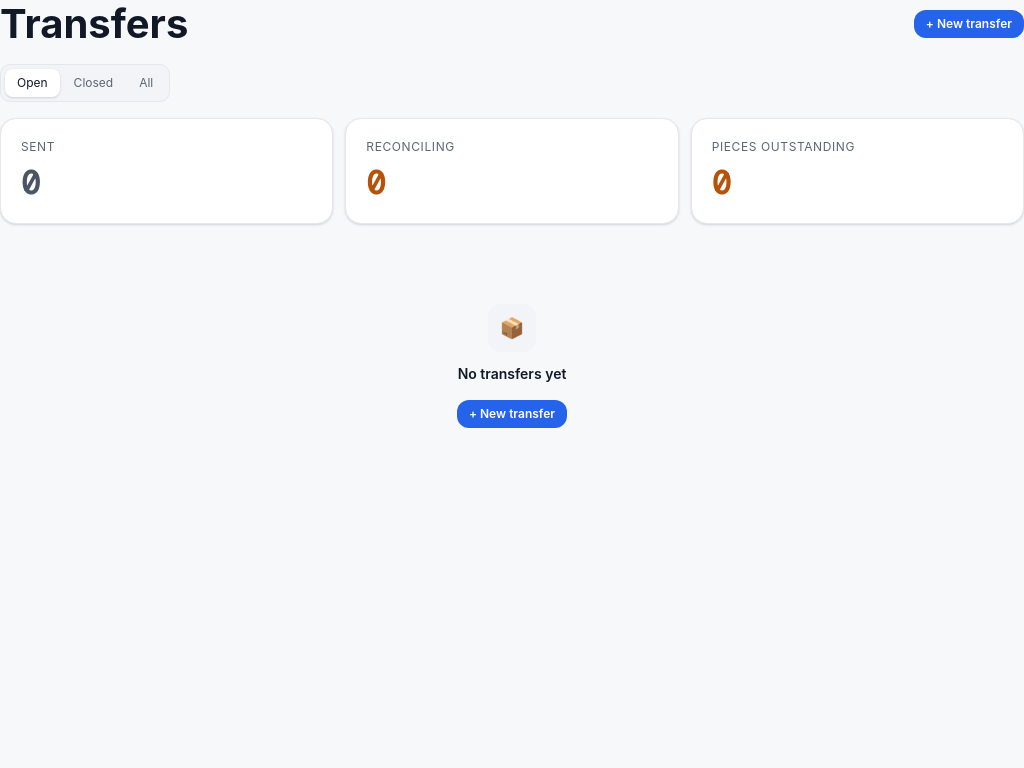
Test: Bring back form › lc15 — pieces at the source are a read-only list, no checkboxes
Click the 1st button "+ New transfer" at (969, 24), box 914,10 -> 1023,38
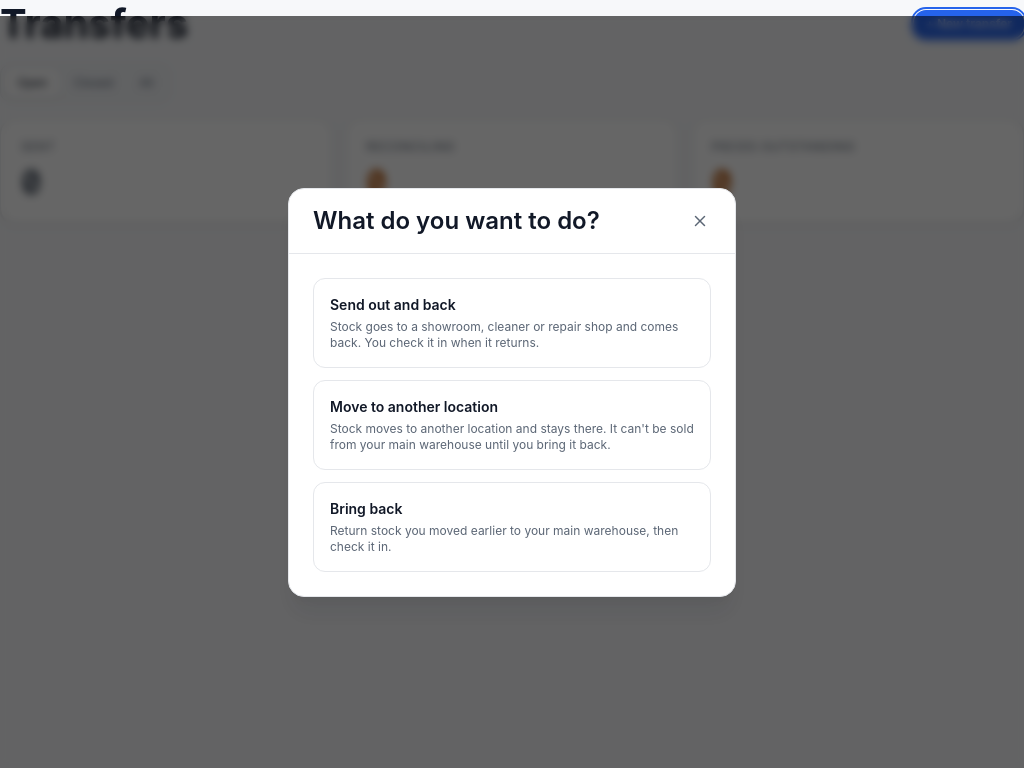
Click the button with test id "chooser-option-return" at (512, 526), box 313,482 -> 711,572
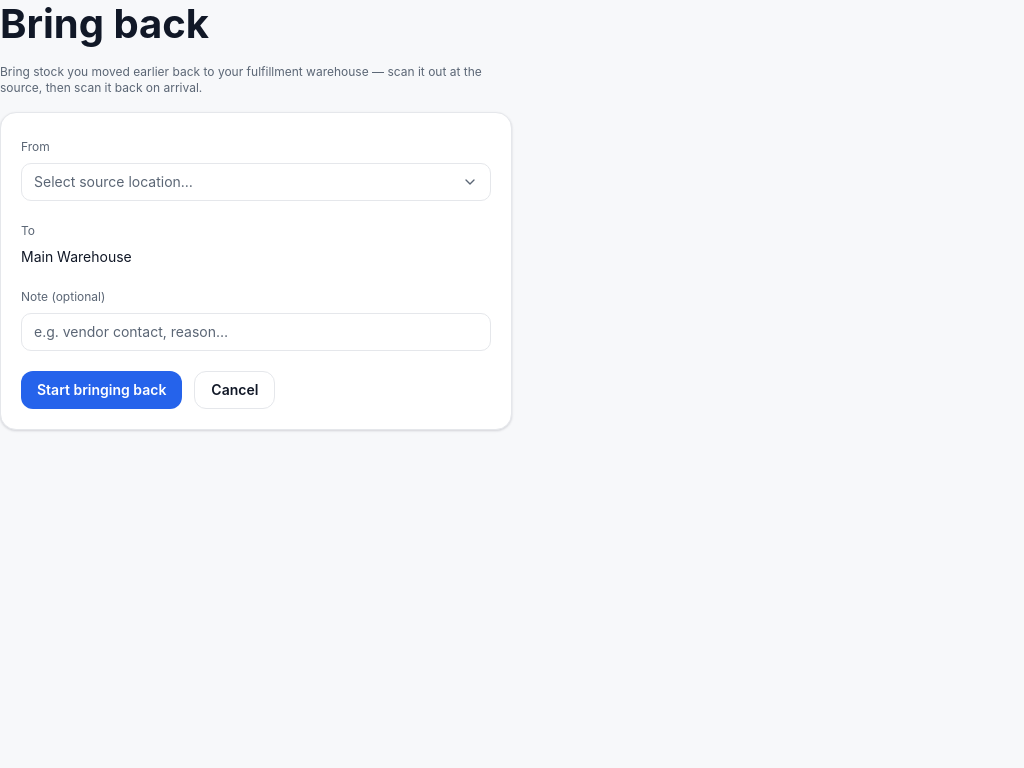
Click the button "Select source location…" at (113, 182), box 21,163 -> 491,201
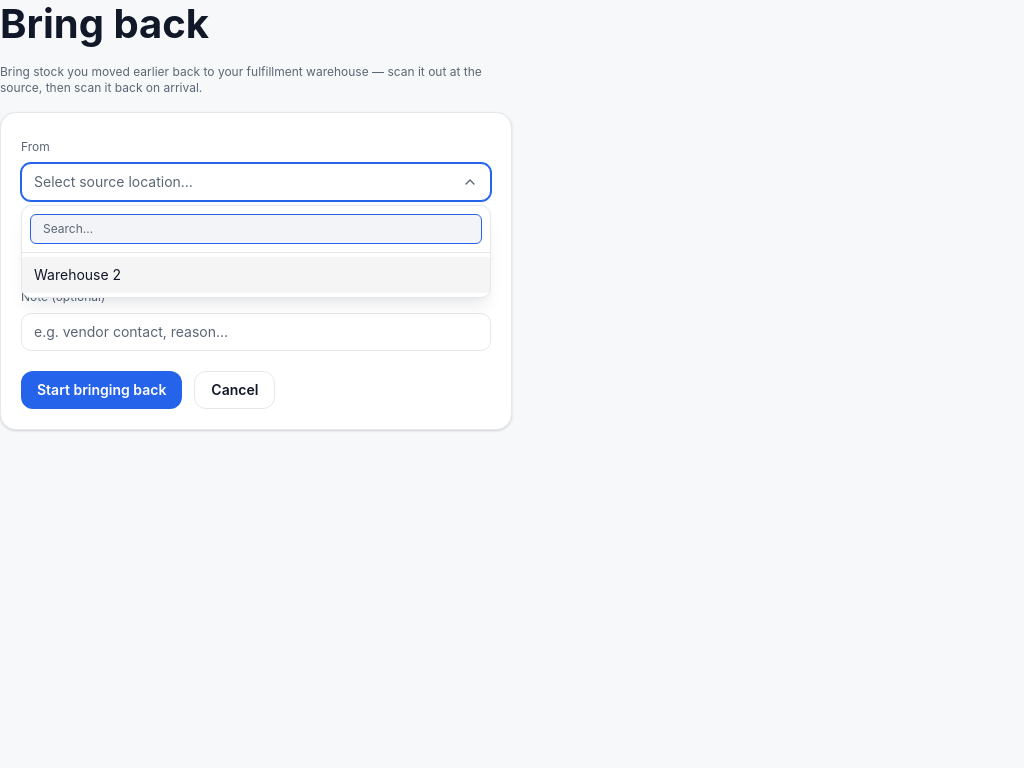
Click the button "Warehouse 2" at (78, 274), box 22,257 -> 490,293
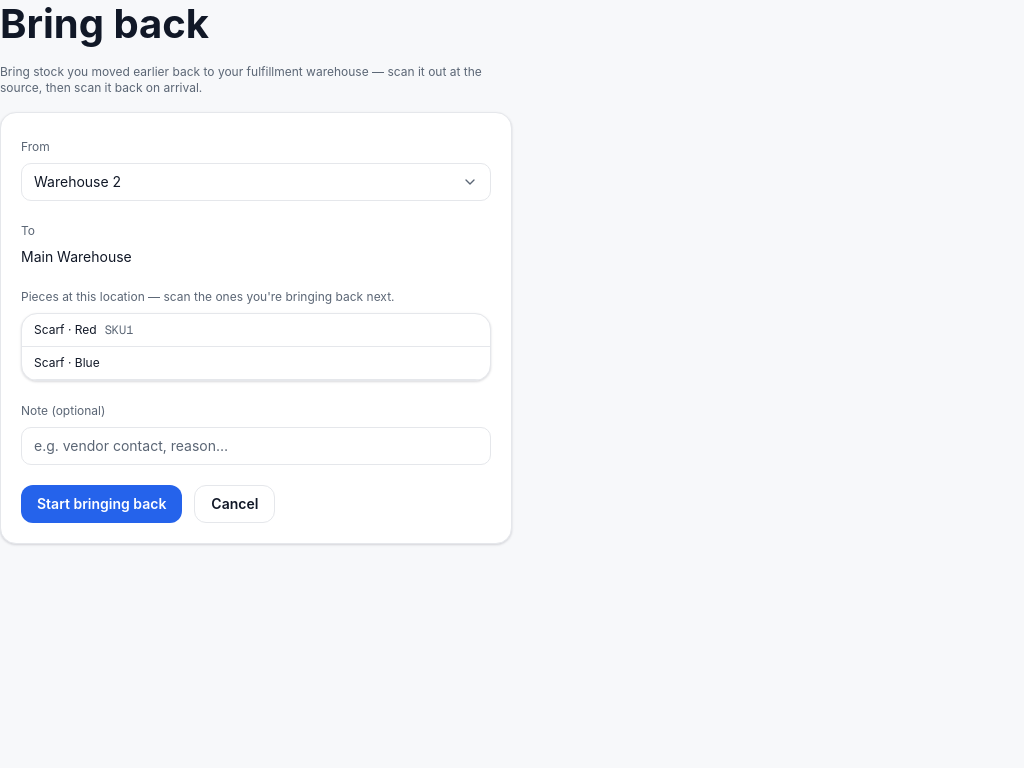
Expected: the text "Red" is shown, 75,322 -> 97,337
Expected: the text "Scarf · Blue" is shown, 34,355 -> 100,371
Expected: the text "Pieces at this location — scan the ones you're bringing back next." is shown, 21,289 -> 394,304
